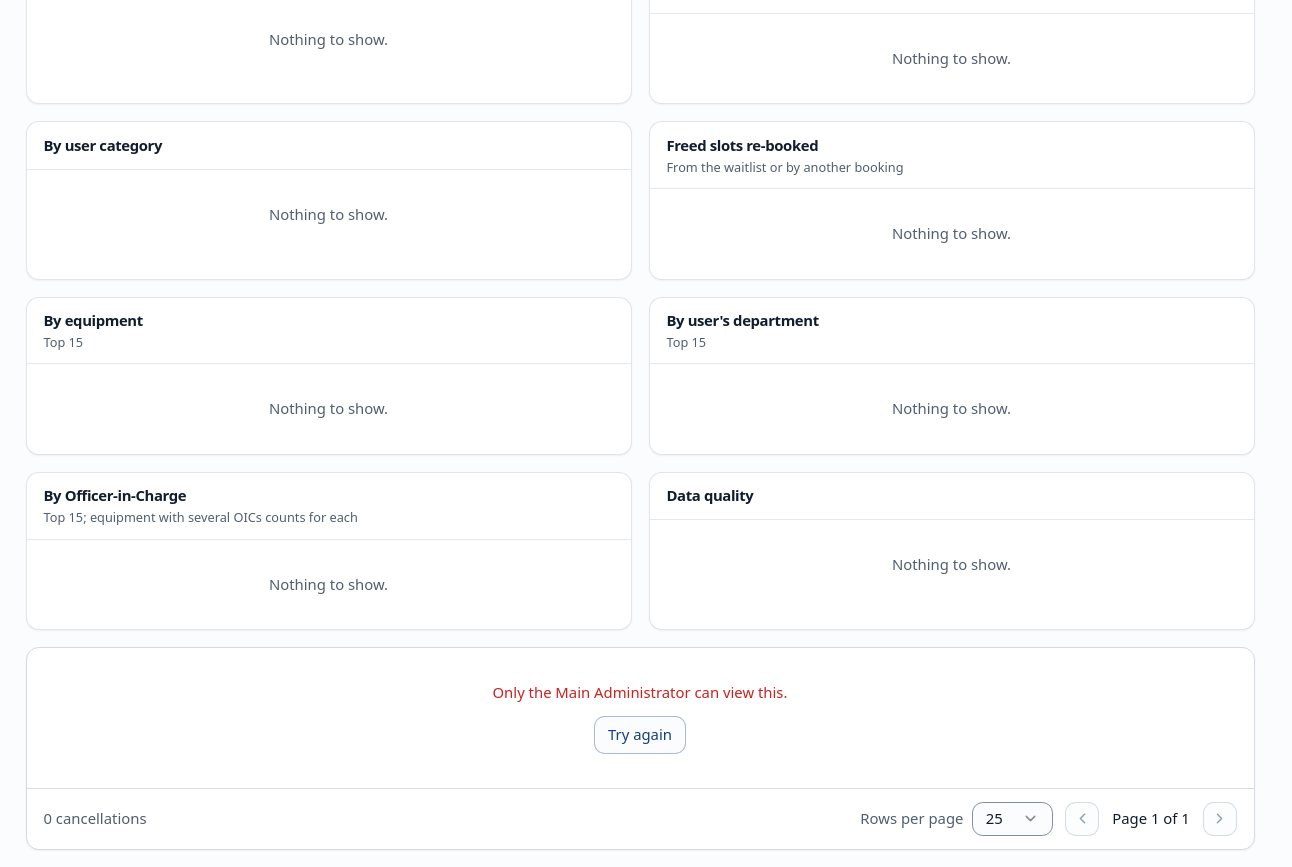
Test: CancellationsDashboard › shows the error with a retry
(page scrolled)
Expected: the text "Only the Main Administrator can view this." is shown, [492,682,788,703]
Click the button "Try again".
click(640, 735)  # box [594,716,686,754]
(page scrolled)
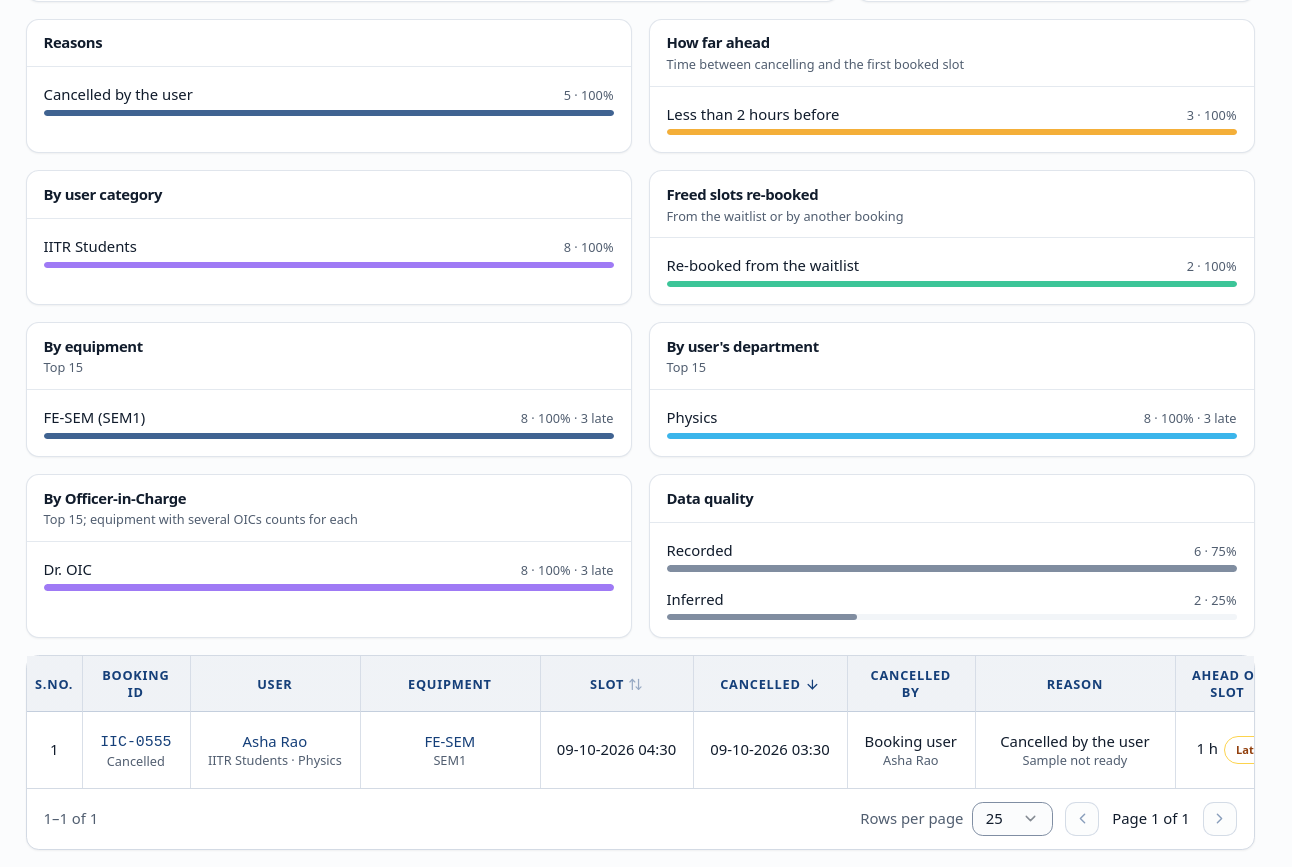
Result: the link "IIC-0555" is shown at [100,734,171,750]
